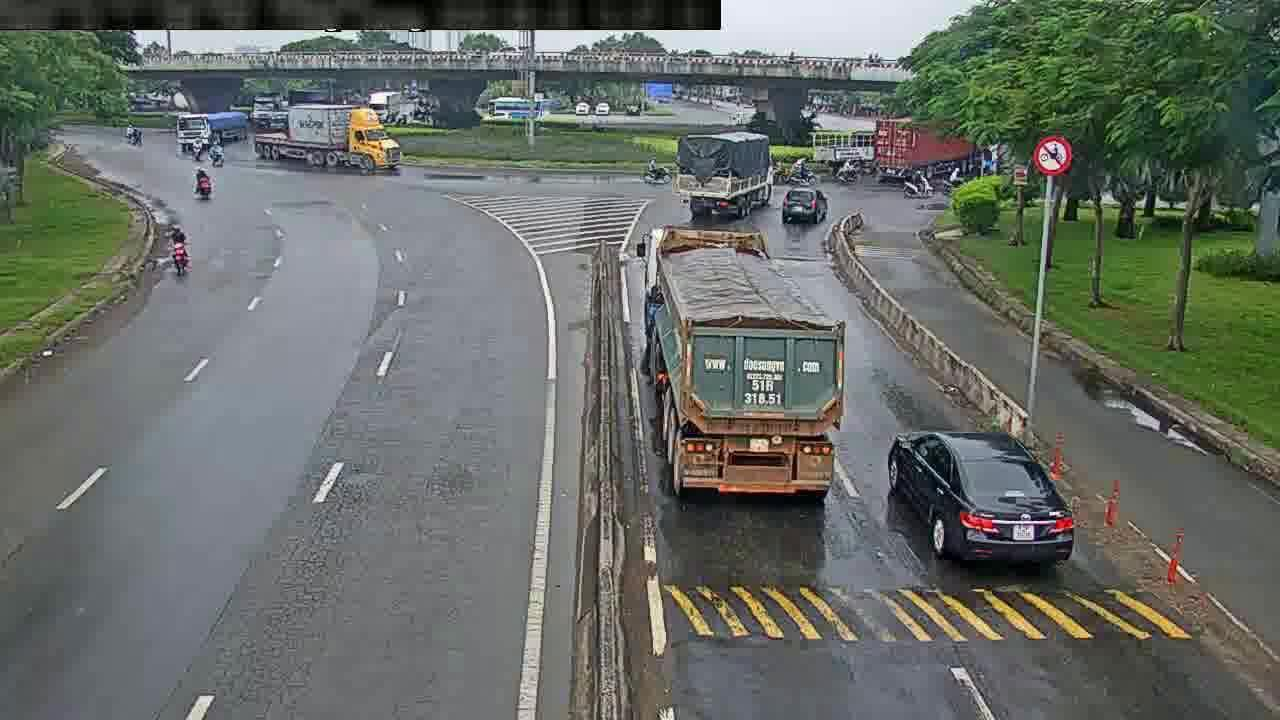8: (633, 223, 861, 496), (672, 125, 777, 223), (256, 101, 402, 157)
container: (888, 427, 1084, 567), (778, 183, 834, 219)
motorbike: (190, 166, 215, 203), (171, 225, 189, 273)
